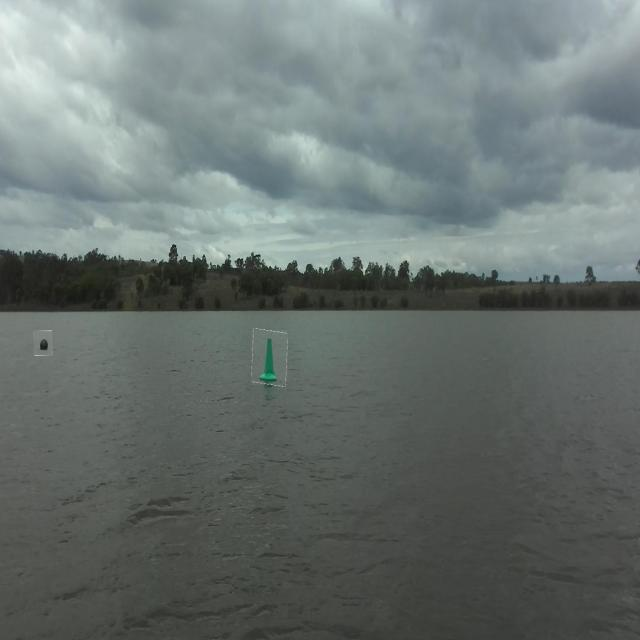Black_Buoy: (38, 328, 56, 361)
Green_Buoy: (249, 324, 285, 395)
